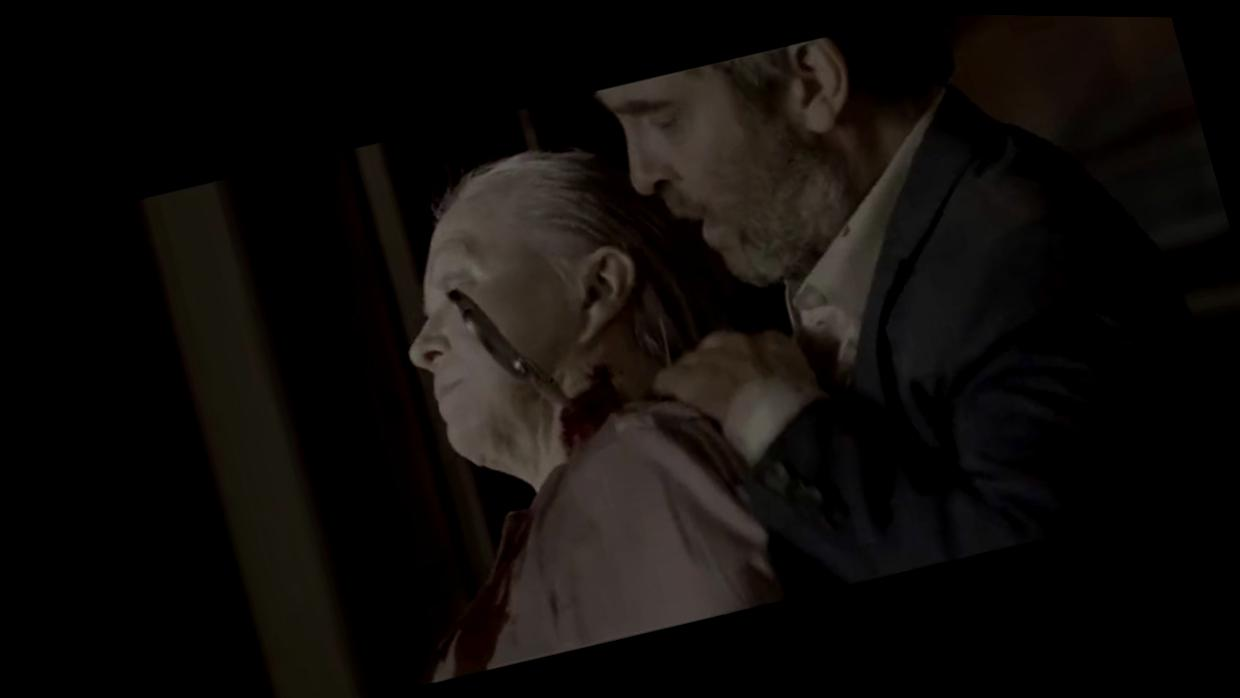Fire: (420, 505, 535, 683), (550, 359, 628, 468)
